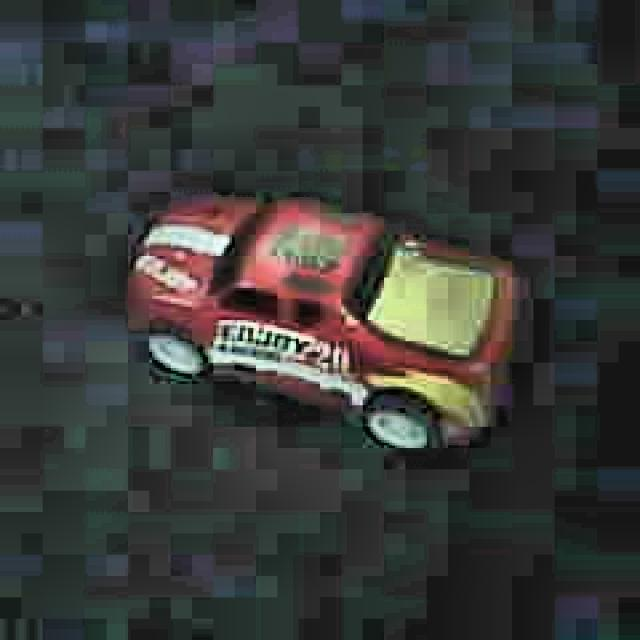car: (117, 183, 525, 467)
